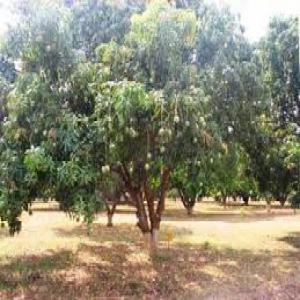Tree: (2, 0, 293, 239)
